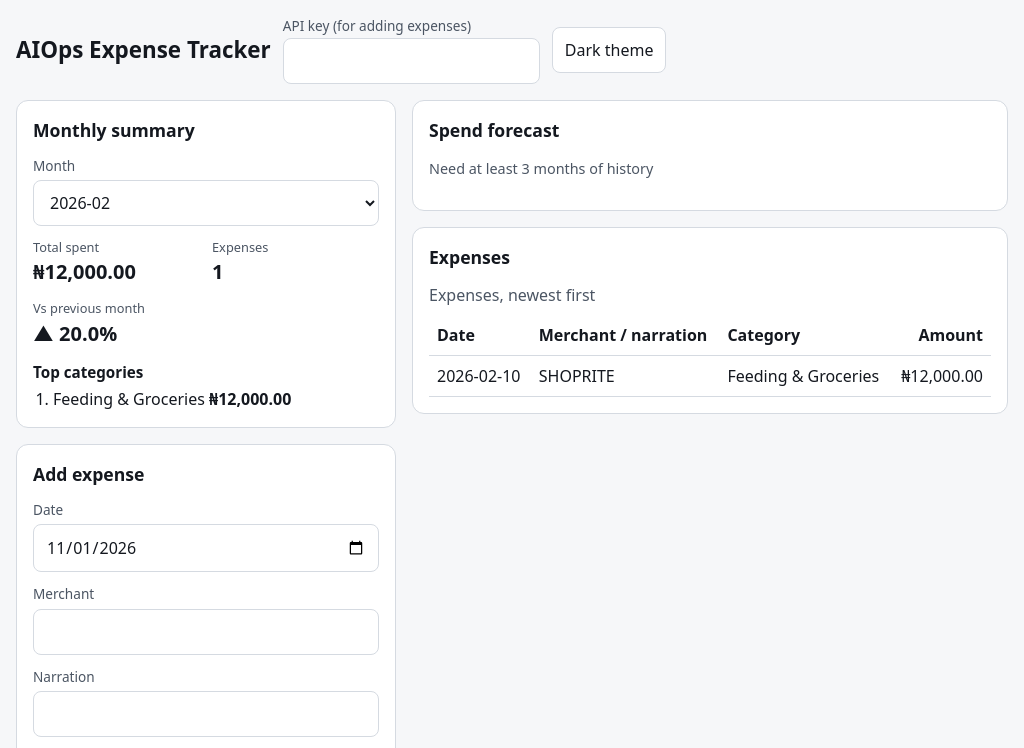
it: App › invalid amount shows field error with aria-invalid
The width and height of the screenshot is (1024, 748).
In the field labelled "Narration": x=206, y=714 x1=33 y1=691 x2=379 y2=737, type "Lunch"
(page scrolled)
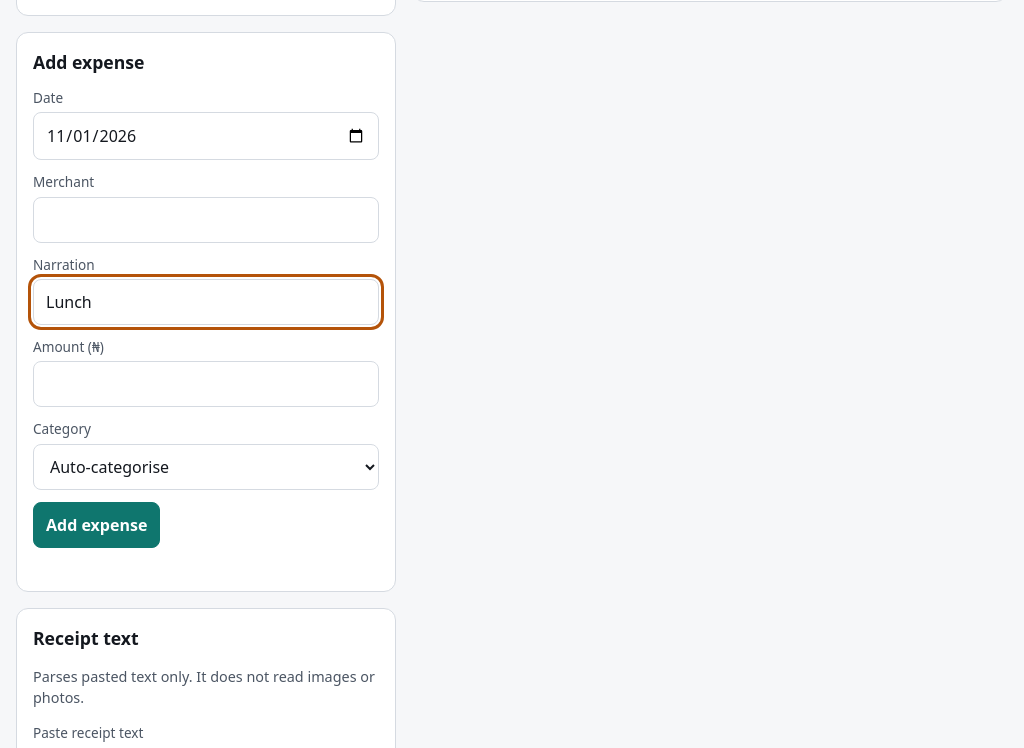
In the field labelled "Amount (₦)": x=206, y=384 x1=33 y1=361 x2=379 y2=407, type "abc"
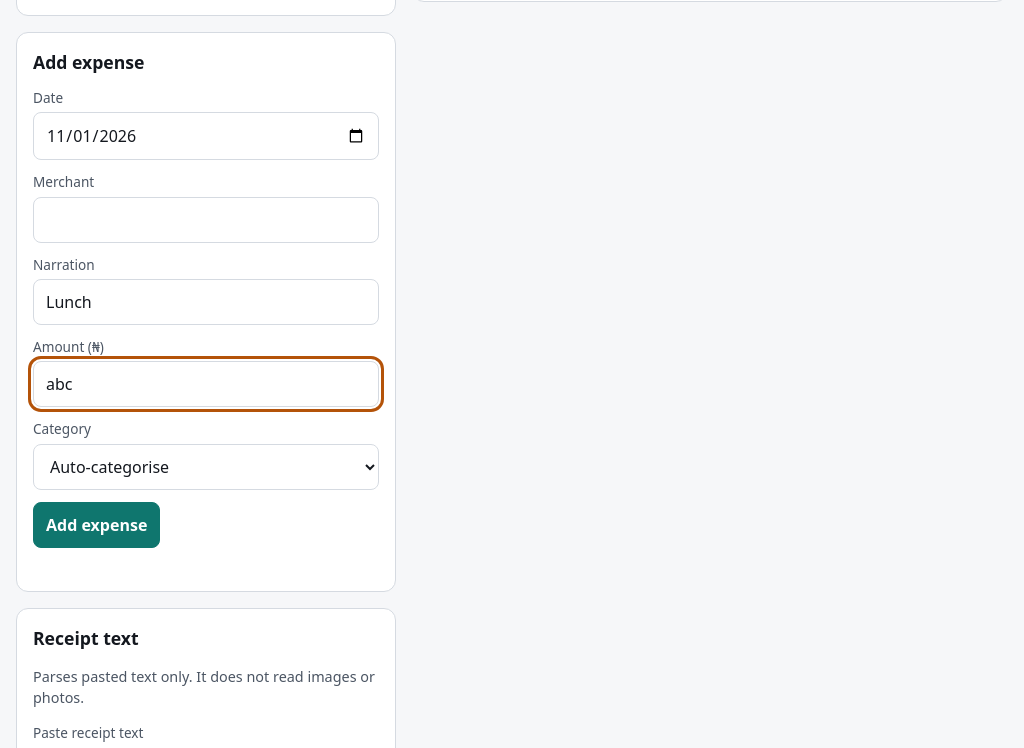
Click the button "Add expense": x=97, y=525 x1=33 y1=502 x2=160 y2=548
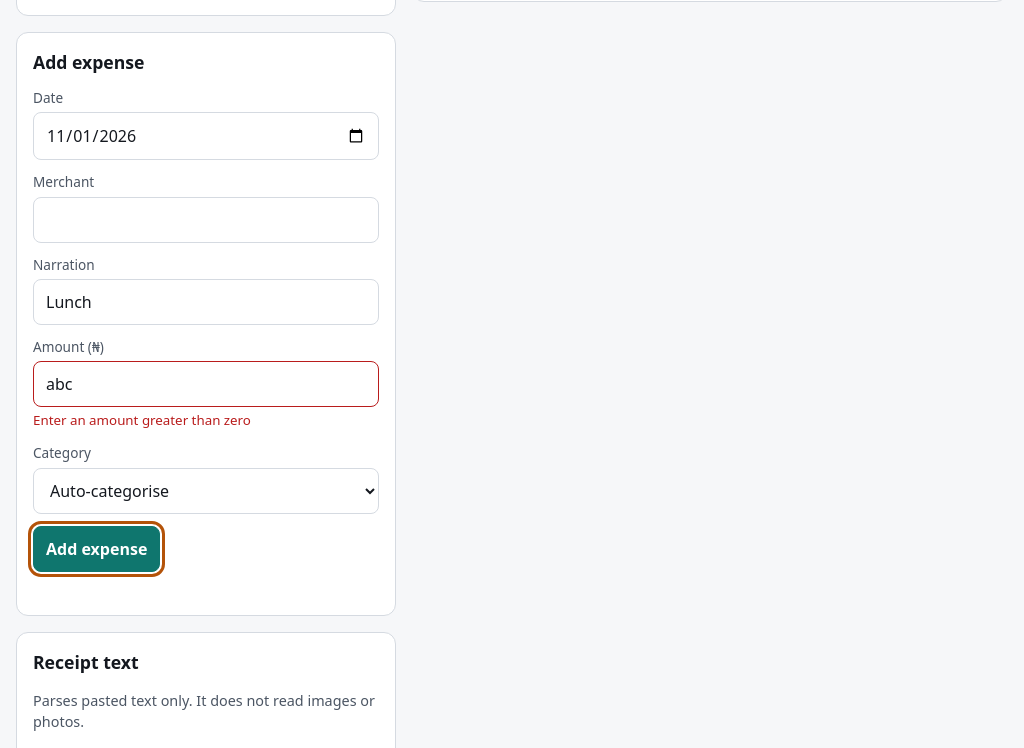
Expected: the text "Enter an amount greater than zero" is shown, x1=33 y1=411 x2=251 y2=429
